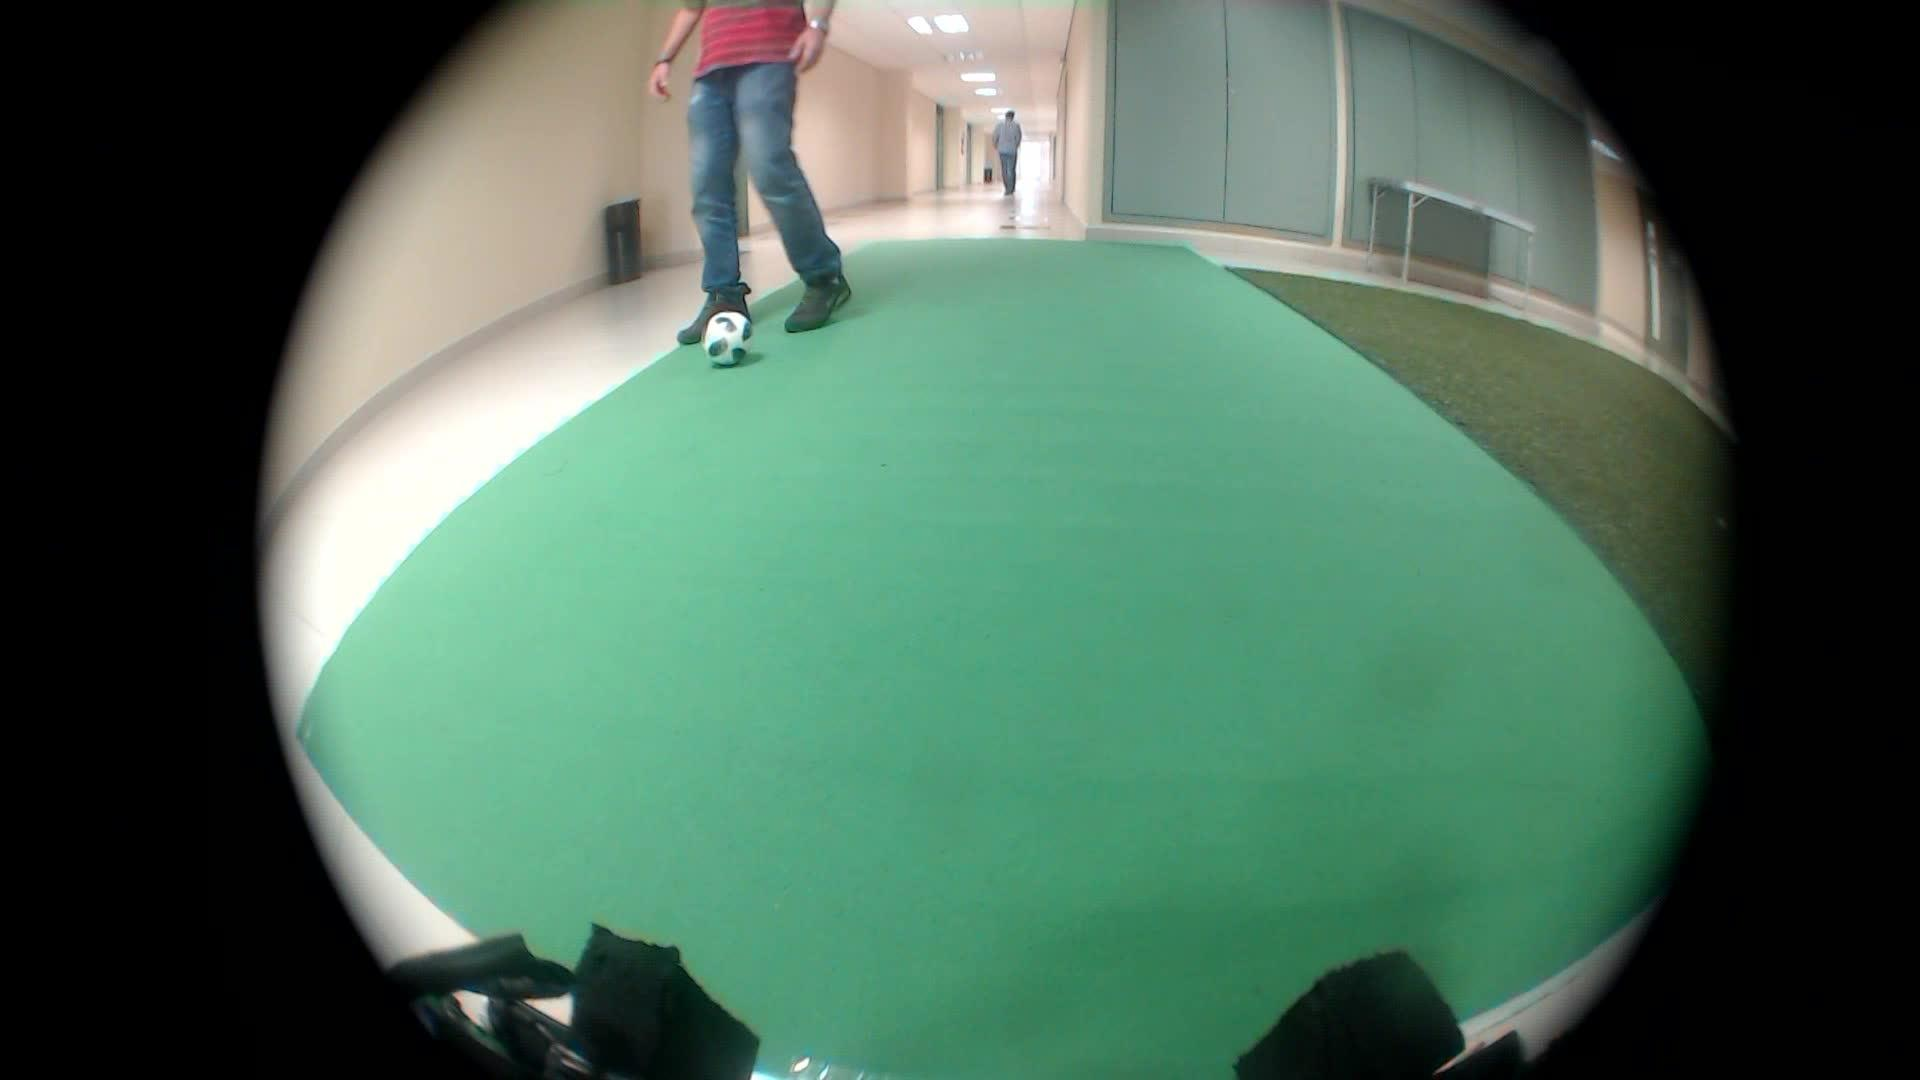ball: (691, 301, 764, 375)
